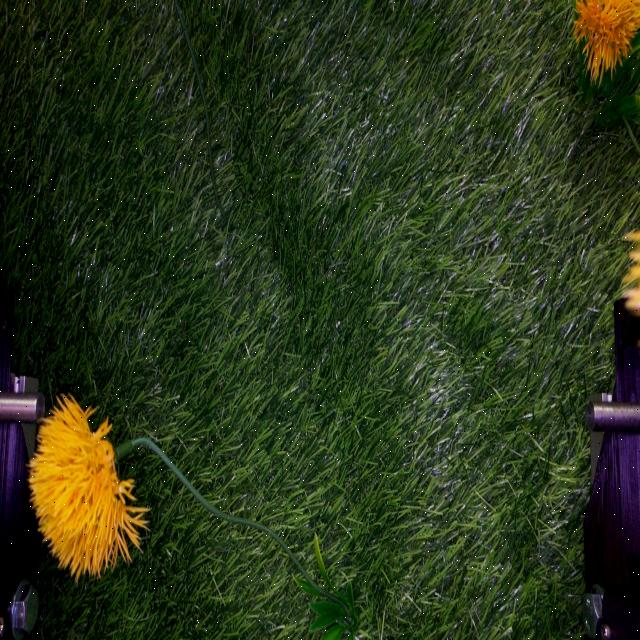dandelion: (0, 0, 640, 631)
